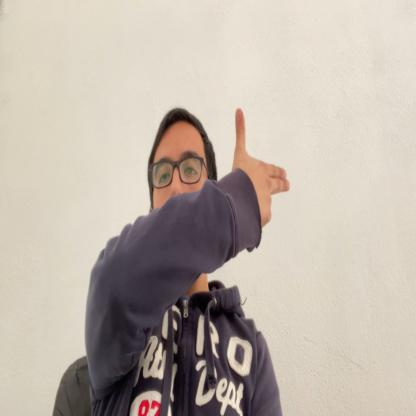H: (233, 104, 291, 228)
